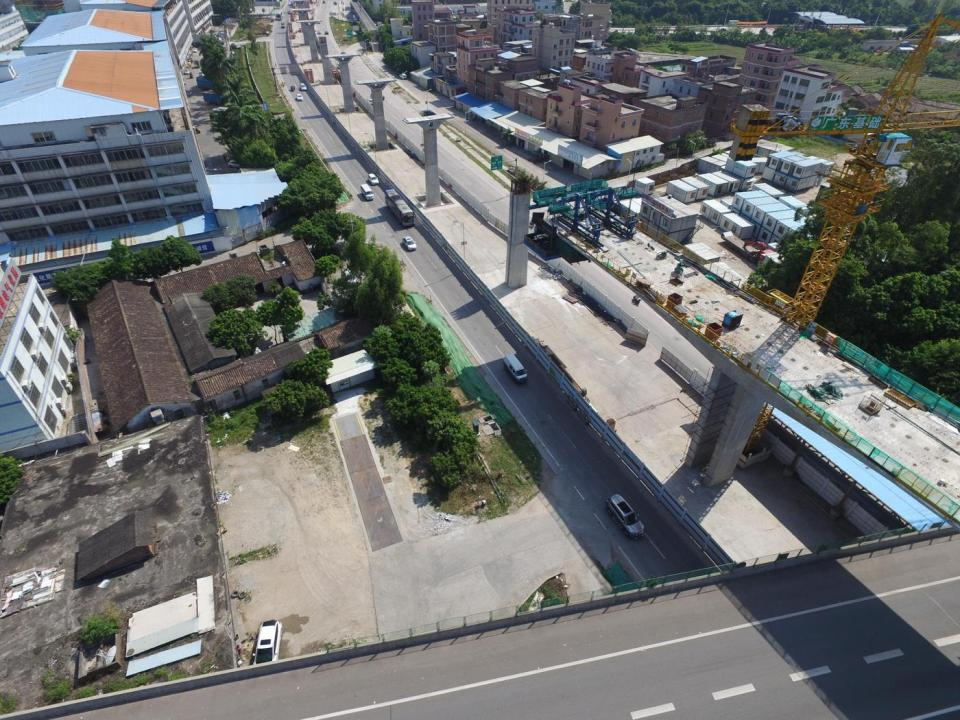bus: (384, 189, 416, 227)
car: (252, 618, 283, 670), (402, 236, 418, 252), (368, 174, 379, 185), (422, 110, 437, 116), (228, 160, 242, 166), (296, 94, 304, 101), (367, 98, 374, 105), (183, 68, 191, 74), (192, 47, 197, 52), (456, 137, 461, 142), (281, 24, 285, 27), (318, 31, 322, 33), (325, 32, 328, 34)
truck: (722, 230, 778, 268)
van: (607, 494, 645, 539), (503, 354, 528, 383), (195, 74, 223, 89), (202, 89, 226, 105), (210, 106, 230, 120), (362, 182, 374, 199), (276, 10, 283, 20), (300, 83, 308, 90), (400, 73, 406, 79)
